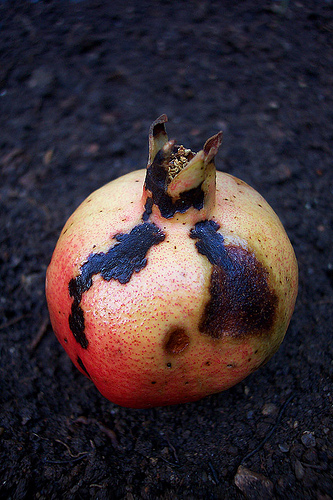pomogranate: (46, 111, 297, 411)
